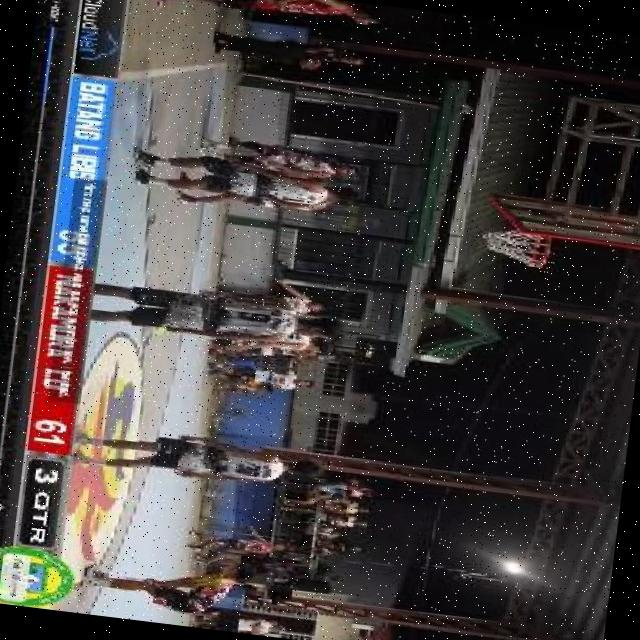ball: (296, 52, 322, 70)
hoop: (528, 230, 556, 274)
